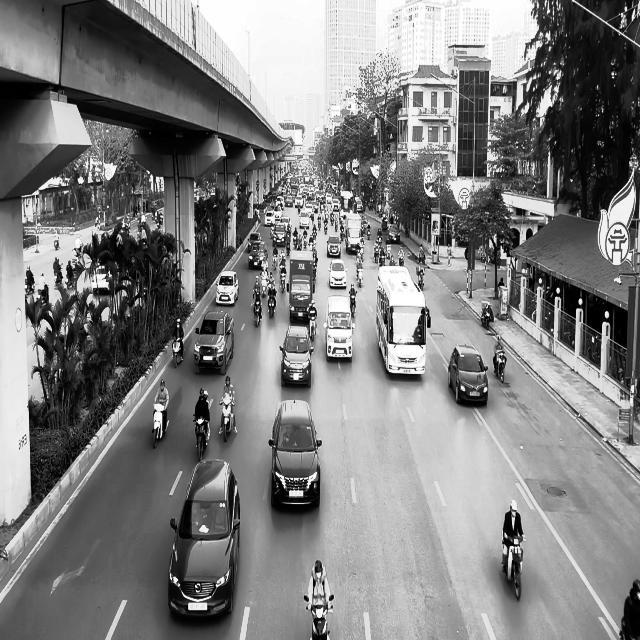bus: (376, 265, 428, 375)
car: (168, 458, 241, 619), (268, 399, 322, 508), (194, 310, 235, 375), (448, 343, 489, 405), (280, 324, 314, 388), (324, 296, 356, 362), (216, 270, 239, 305), (90, 262, 112, 294), (328, 258, 348, 288), (327, 235, 341, 257), (387, 224, 401, 242)
motorbike: (502, 533, 525, 600), (304, 594, 334, 639), (193, 414, 211, 461), (219, 397, 237, 442), (152, 403, 169, 448), (493, 349, 507, 383), (172, 336, 184, 367), (482, 302, 494, 328), (253, 298, 263, 327), (308, 313, 317, 341), (350, 292, 358, 317)
